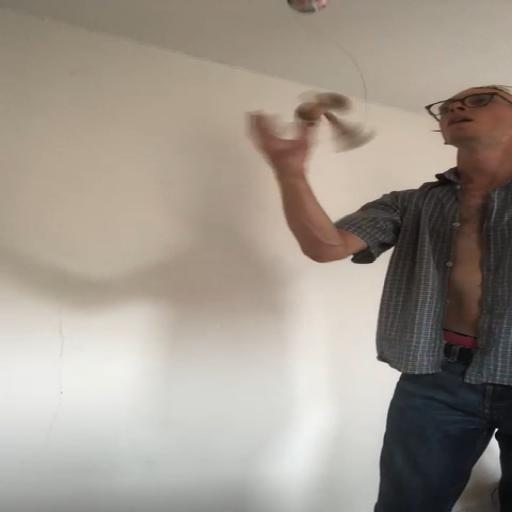kendama_ball: (287, 0, 328, 14)
